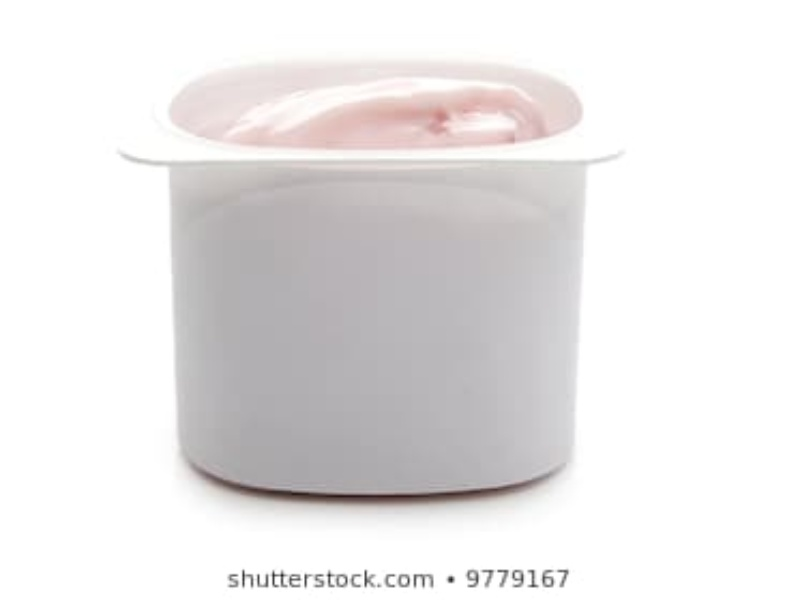yogurt-cup: (127, 57, 629, 497)
